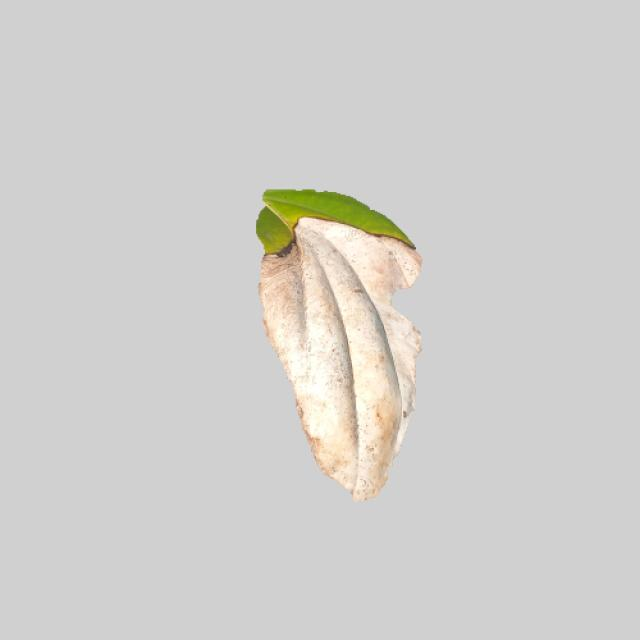leaf-blight: (243, 186, 422, 499)
